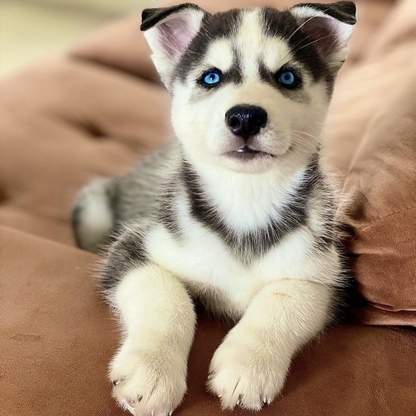husky: (62, 1, 370, 416)
